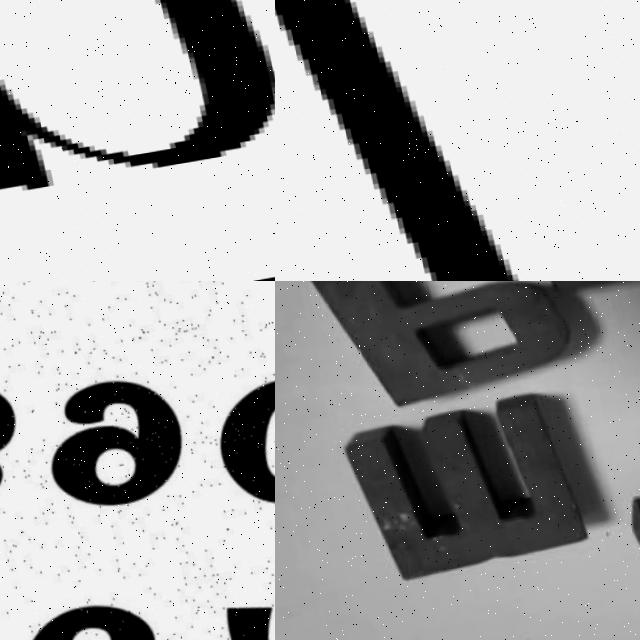0: (173, 352, 275, 544)
6: (0, 577, 186, 640)
7: (133, 574, 275, 640)
8: (0, 349, 51, 541)
9: (11, 351, 212, 537)
J: (539, 281, 640, 381)
L: (275, 0, 537, 281)
M: (340, 396, 582, 584)
N: (0, 0, 275, 248)
P: (304, 281, 573, 415)
